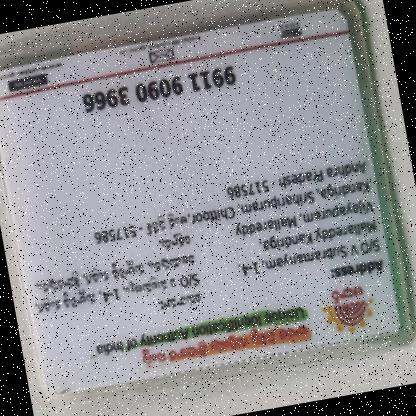aadhaar_card: (0, 1, 413, 406)
